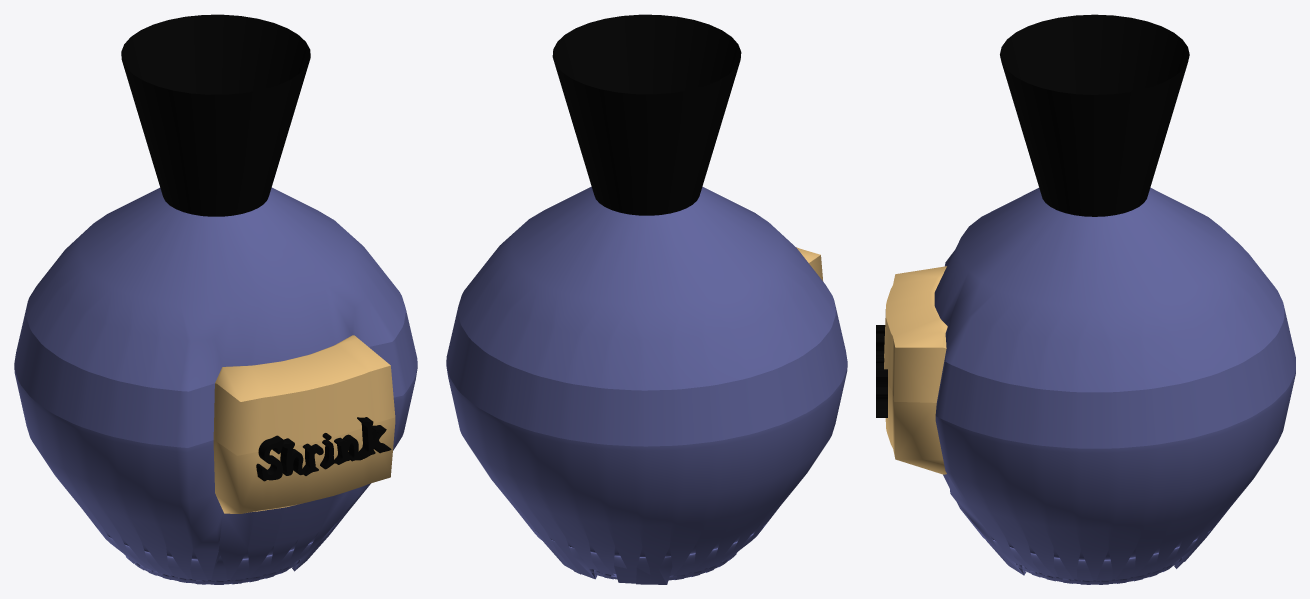
Rendered from shrink.fbx.
3 views of the same model, side by side, from view 1: azimuth 30°, elevation 25°; view 2: azimuth 150°, elevation 25°; view 3: azimuth 270°, elevation 25° (orthographic).
Visible parts, largest first — view 1: Shrink Potion; view 2: Shrink Potion; view 3: Shrink Potion.
Boxes of the visible parts, x1,y1,x2,y2 form: Shrink Potion: [14, 14, 417, 584]; Shrink Potion: [446, 14, 847, 584]; Shrink Potion: [876, 14, 1295, 584].
Size of the model in its own units: 407 by 552 by 424.
